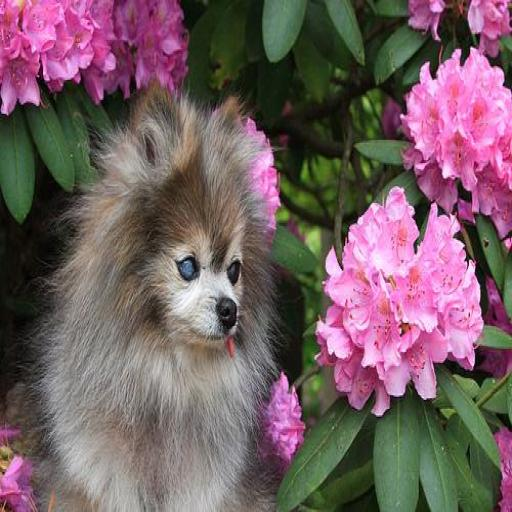dog_face: (118, 87, 257, 344)
